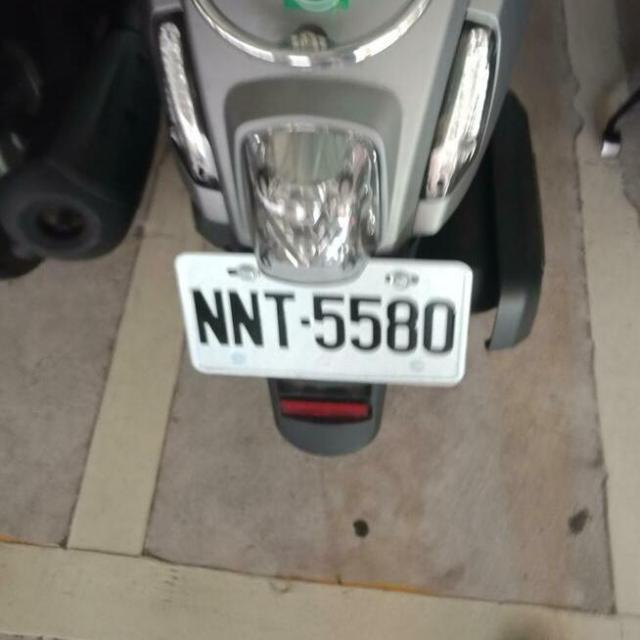W: (165, 234, 480, 400)
